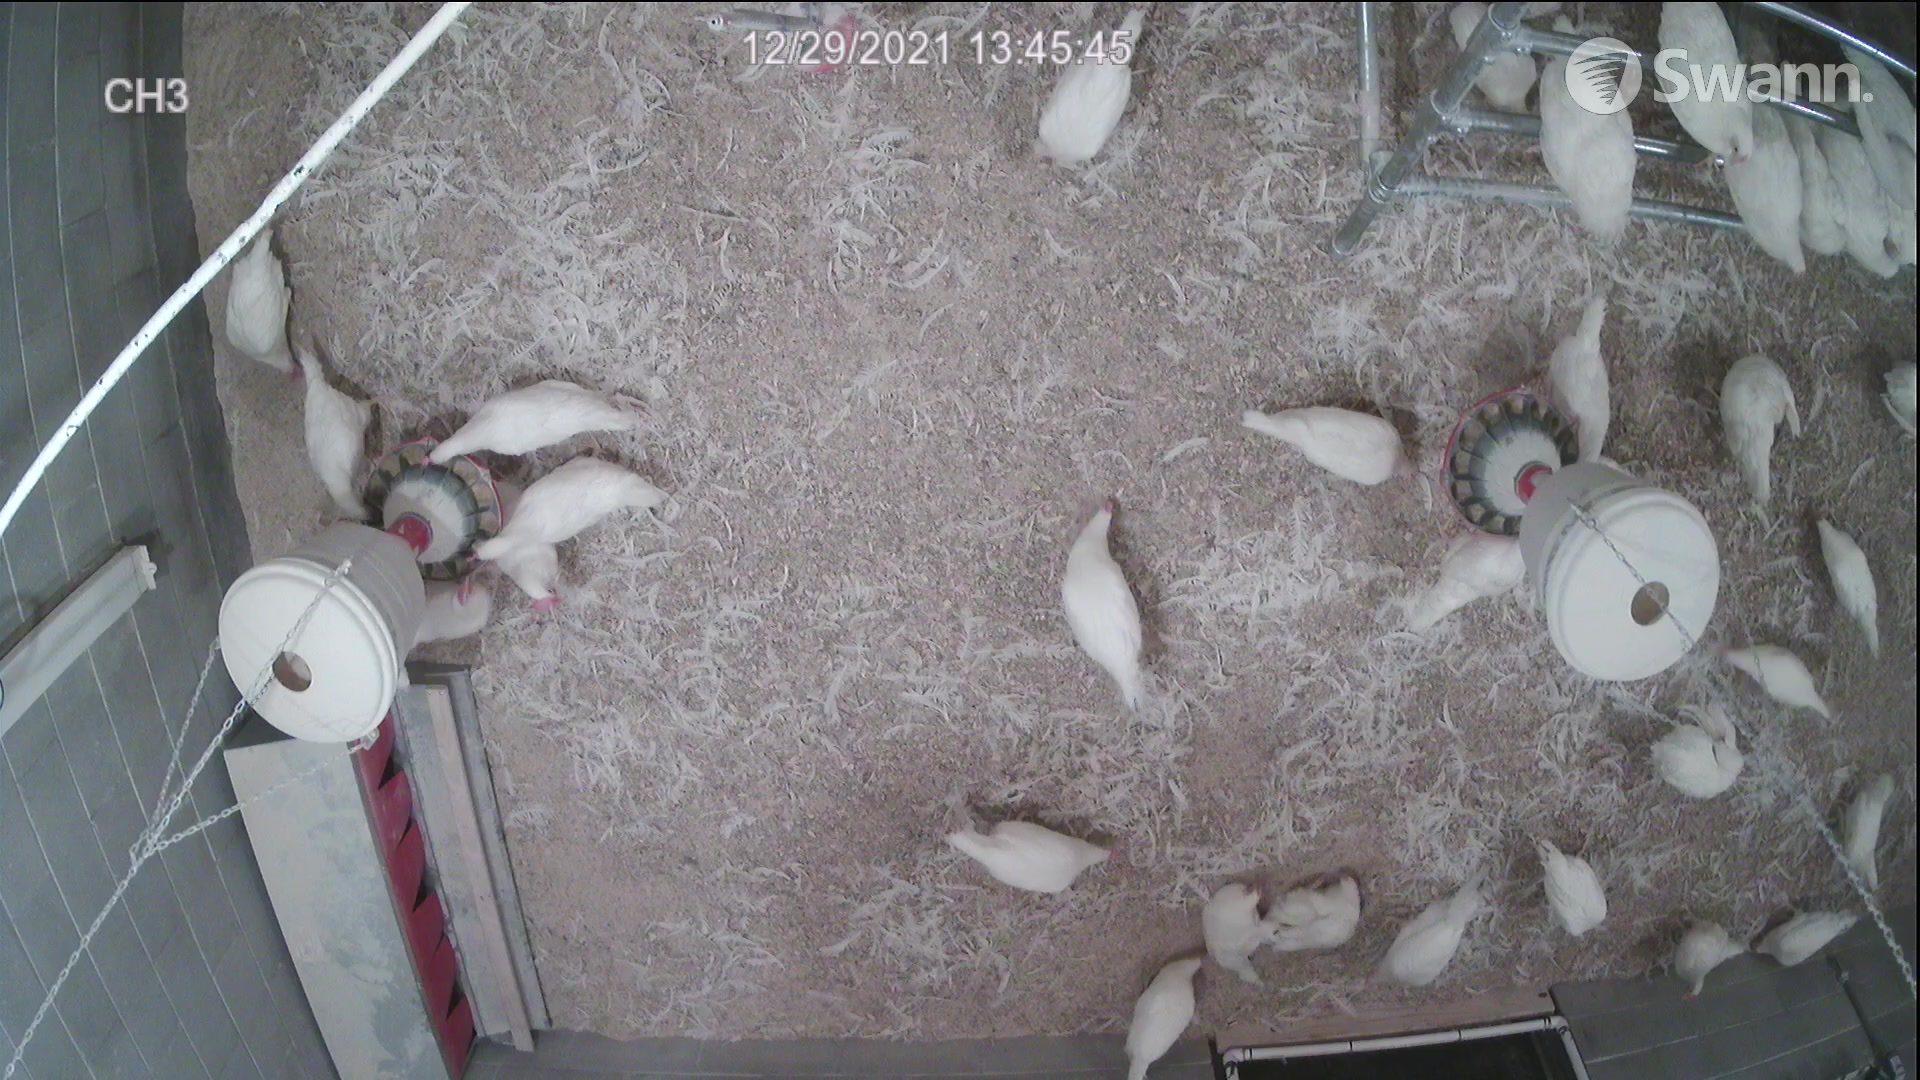Dust Bathing: (1279, 858, 1374, 968)
Feeding: (465, 463, 676, 579), (400, 377, 626, 476), (287, 323, 372, 520), (1804, 516, 1895, 651), (1557, 301, 1618, 463)
Foraging: (1048, 483, 1154, 687), (1039, 15, 1154, 194), (943, 811, 1135, 898), (1247, 401, 1418, 484), (1127, 948, 1212, 1080), (229, 219, 291, 385), (1534, 833, 1614, 957)
Perching: (1548, 33, 1635, 240), (1659, 0, 1763, 157), (1840, 18, 1912, 203), (1826, 105, 1898, 287), (1734, 102, 1807, 261), (1785, 145, 1844, 252)
Preening: (1709, 352, 1800, 516), (1636, 699, 1746, 793)
